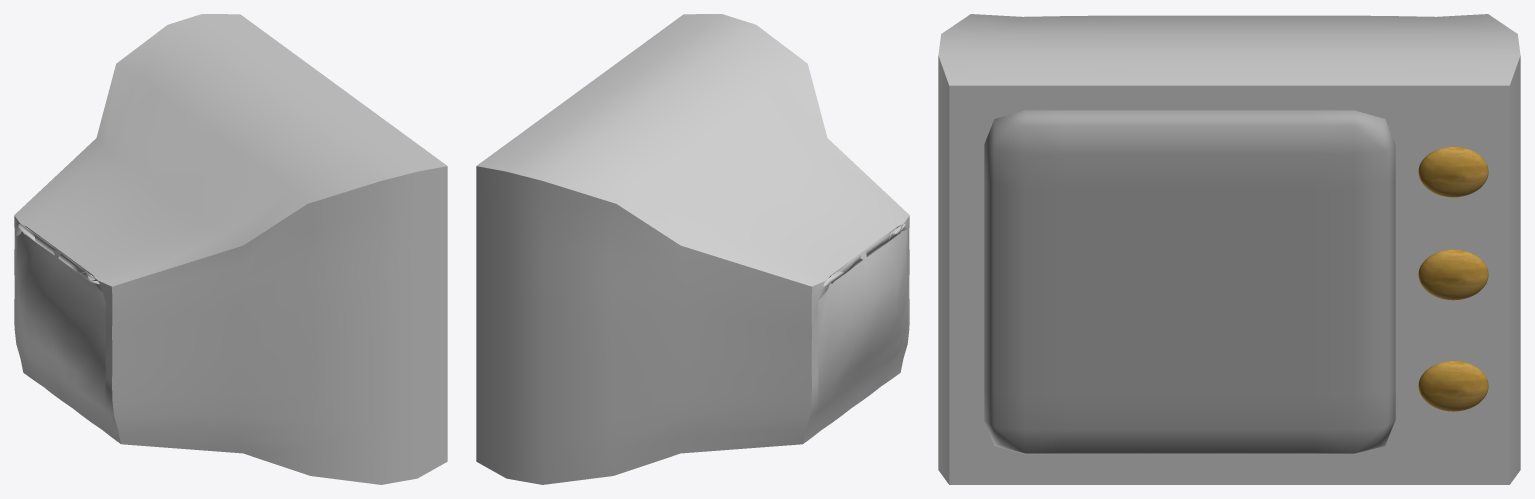
The model's file is television 1.fbx.
3 views of the same model, side by side, from view 1: azimuth 30°, elevation 25°; view 2: azimuth 150°, elevation 25°; view 3: azimuth 270°, elevation 25° (orthographic). The views are drawn at different scales.
Parts seen in each view (by area): view 1: pCube1; view 2: pCube1; view 3: pCube2, pCube1, pSphere2, pSphere3, pSphere1.
Boxes of the visible parts, left/top/right/bottom form: pCube1: left=14, top=14, right=447, bottom=484; pCube1: left=476, top=14, right=909, bottom=484; pCube2: left=984, top=110, right=1395, bottom=454; pCube1: left=938, top=14, right=1520, bottom=484; pSphere2: left=1418, top=249, right=1488, bottom=300; pSphere3: left=1418, top=361, right=1488, bottom=411; pSphere1: left=1418, top=146, right=1488, bottom=197.
Size of the model in its own units: 11.25 by 10.57 by 13.45.
